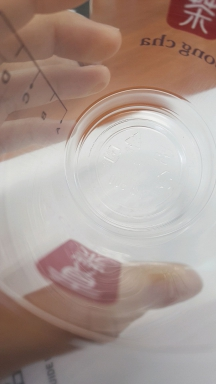recycle: (123, 127, 145, 155)
